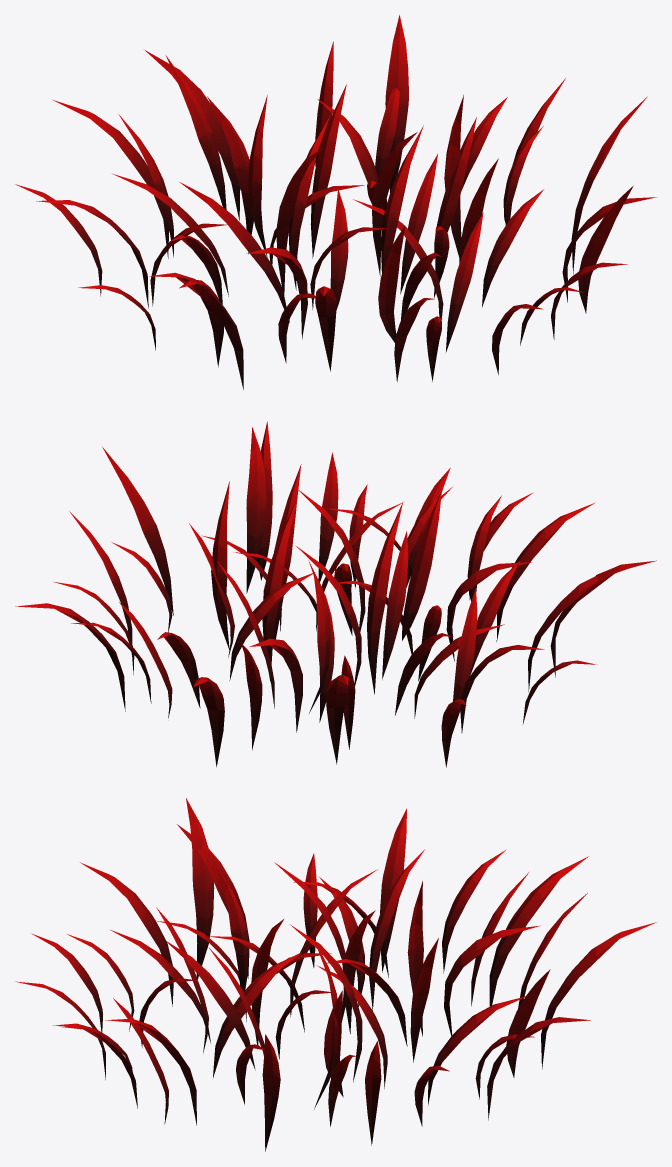
The model's file is Grass.fbx.
3 views of the same model, one above another, from view 1: azimuth 30°, elevation 25°; view 2: azimuth 150°, elevation 25°; view 3: azimuth 270°, elevation 25° (orthographic). The views are drawn at different scales.
Visible parts, largest first — view 1: Grass2, Grass1; view 2: Grass1, Grass2; view 3: Grass1, Grass2.
Boxes of the visible parts, box(x1,y1,x2,y2) form: Grass2: box(36, 41, 657, 381); Grass1: box(15, 15, 647, 389); Grass1: box(15, 421, 656, 767); Grass2: box(54, 427, 625, 750); Grass1: box(15, 798, 656, 1151); Grass2: box(31, 808, 587, 1126).
Bounding box in the file's own units: 3.82 × 1.3 × 4.06.
